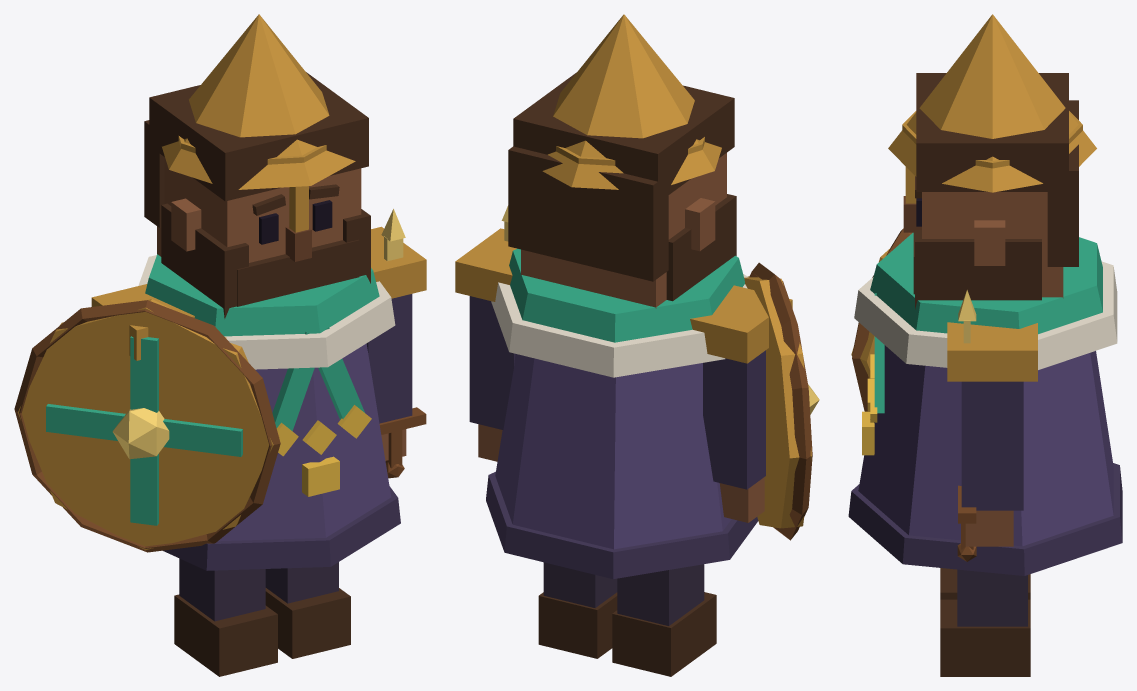
File: kalkaneri.obj
3 views of the same model, side by side, from view 1: azimuth 30°, elevation 25°; view 2: azimuth 150°, elevation 25°; view 3: azimuth 270°, elevation 25° (orthographic).
Parts seen in each view (by area): view 1: kalkan, tolga, govde, sac, kisa-sakal, cizmeler, kalkan-amblemi, atki, kalkan-cemberi, kafa, etek, bacaklar (+13 smaller); view 2: govde, sac, tolga, kollar, atki, cizmeler, etek, kurk-yaka, omuzluk, kalkan, bacaklar, kafa (+4 smaller); view 3: govde, tolga, sac, atki, etek, kollar, kisa-sakal, kurk-yaka, kafa, cizmeler, omuzluk, bacaklar (+10 smaller).
Boxes of the visible parts, <box> form: kalkan: <box>17,299,279,550</box>; tolga: <box>162,14,355,232</box>; govde: <box>218,343,391,541</box>; sac: <box>144,72,368,227</box>; kisa-sakal: <box>161,203,370,318</box>; cizmeler: <box>174,588,350,676</box>; kalkan-amblemi: <box>46,336,242,525</box>; atki: <box>145,254,379,336</box>; kalkan-cemberi: <box>14,300,280,552</box>; kafa: <box>157,157,361,262</box>; etek: <box>163,486,400,570</box>; bacaklar: <box>179,558,338,621</box>; govde: <box>495,354,731,549</box>; sac: <box>508,72,734,281</box>; tolga: <box>542,14,721,189</box>; kollar: <box>469,296,765,489</box>; atki: <box>509,248,744,342</box>; cizmeler: <box>538,592,716,676</box>; etek: <box>486,471,758,579</box>; kurk-yaka: <box>491,274,748,377</box>; omuzluk: <box>455,228,792,363</box>; kalkan: <box>744,276,811,528</box>; bacaklar: <box>543,562,704,625</box>; kafa: <box>521,153,726,308</box>; govde: <box>858,345,1113,546</box>; tolga: <box>888,14,1096,203</box>; sac: <box>916,73,1078,266</box>; atki: <box>870,232,1102,334</box>; etek: <box>848,463,1122,575</box>; kollar: <box>961,381,1023,510</box>; kisa-sakal: <box>913,230,1041,309</box>; kurk-yaka: <box>854,261,1117,369</box>; kafa: <box>922,192,1063,298</box>; cizmeler: <box>940,568,1030,676</box>; omuzluk: <box>947,322,1037,381</box>; bacaklar: <box>957,569,1027,626</box>.
Size of the model in its own units: 2.99 by 4.93 by 1.94.
